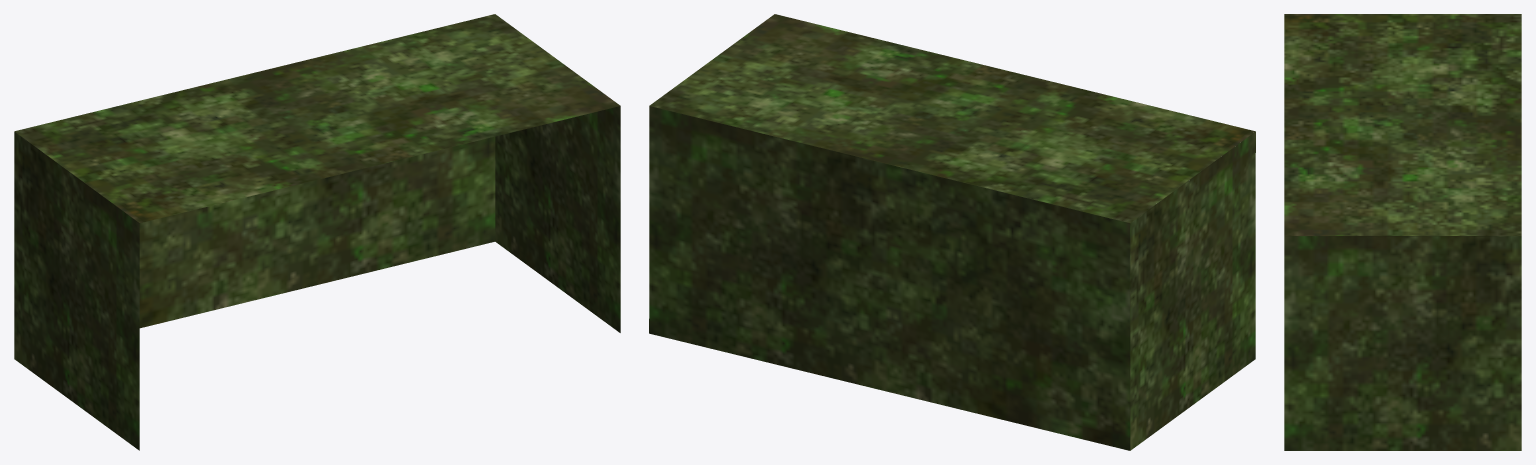
Rendered from OVERHILL_A_01_PLANE134.fbx.
3 views of the same model, side by side, from view 1: azimuth 30°, elevation 25°; view 2: azimuth 150°, elevation 25°; view 3: azimuth 270°, elevation 25° (orthographic). The views are drawn at different scales.
Visible parts, largest first — view 1: OVERHILL_A_01_PLANE134; view 2: OVERHILL_A_01_PLANE134; view 3: OVERHILL_A_01_PLANE134.
Boxes of the visible parts, <box> form: OVERHILL_A_01_PLANE134: <box>14,14,620,450</box>; OVERHILL_A_01_PLANE134: <box>649,14,1255,450</box>; OVERHILL_A_01_PLANE134: <box>1284,14,1521,450</box>.
Bounding box in the file's own units: 31223 × 14121 × 14121.
Materials: 1 (1 with a texture image).
